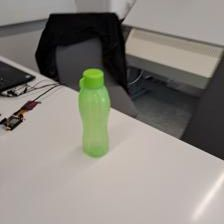bottle: (75, 66, 113, 157)
